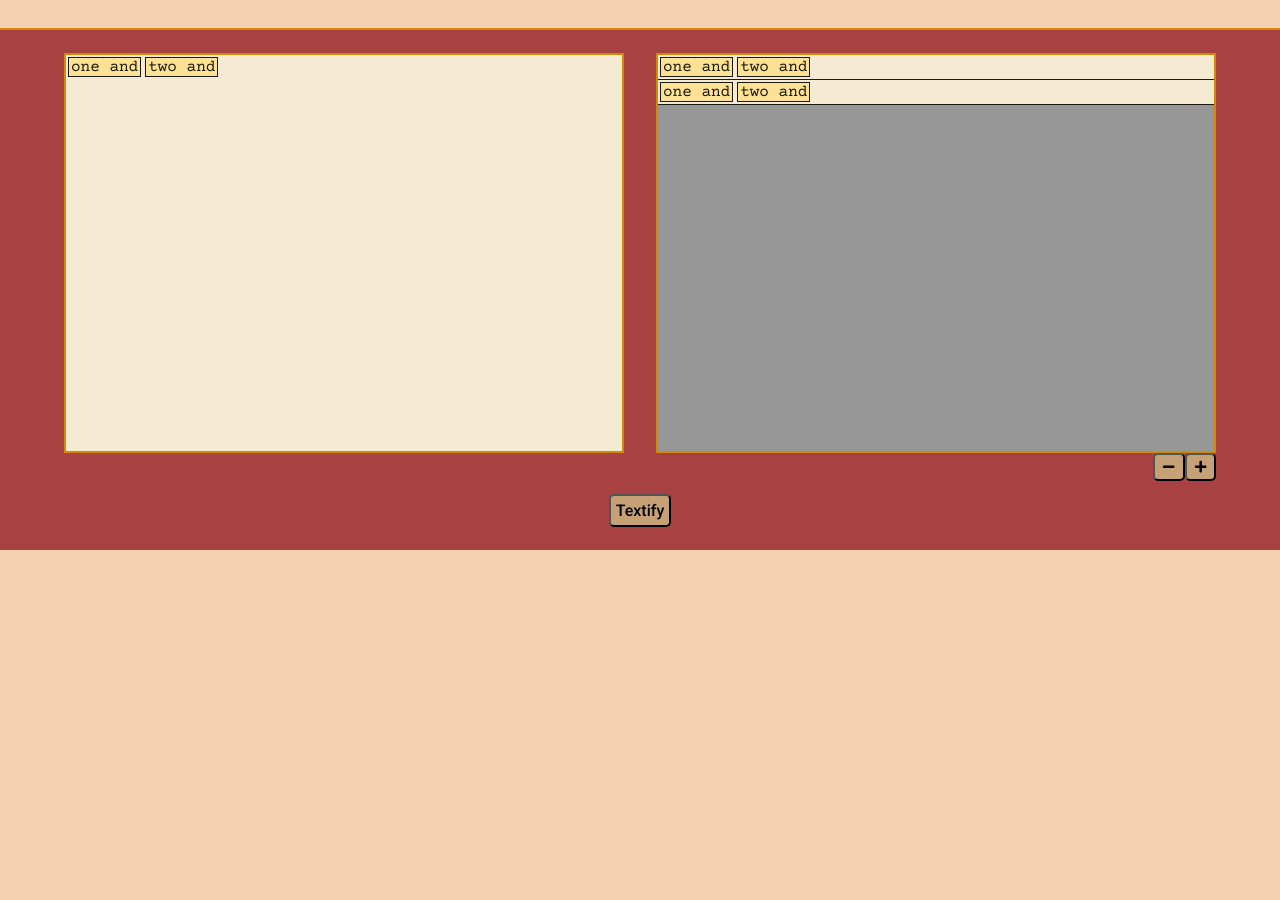
Test: CraftingBoard › renders PopUpBox when the textify button is clicked
Expected: the text "Eeny, meeny, miney, mo" is not shown
Click the button with test id "textify-btn" at (640, 511), box [609,494,671,527]
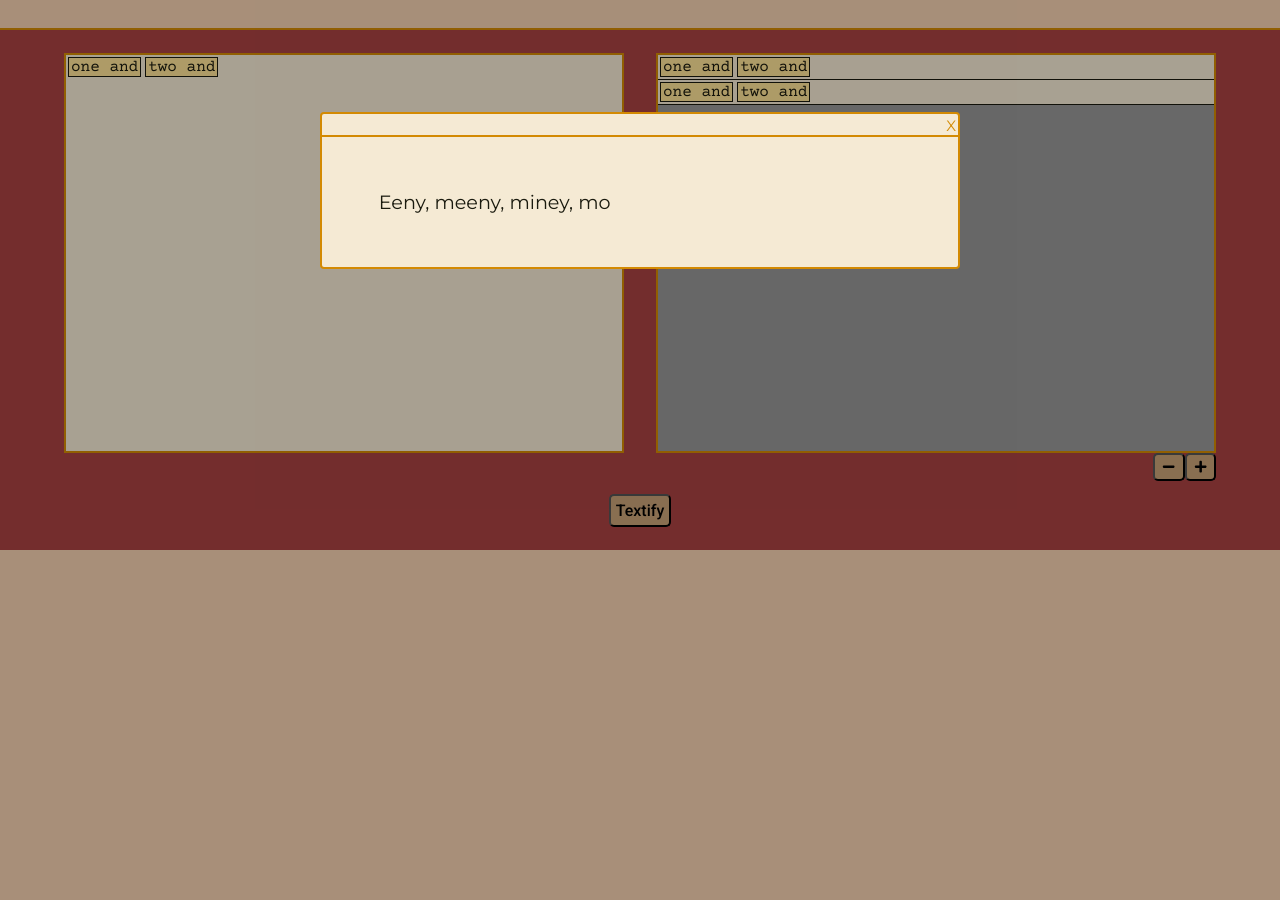
Now the text "Eeny, meeny, miney, mo" is shown, box [379,190,611,214]
